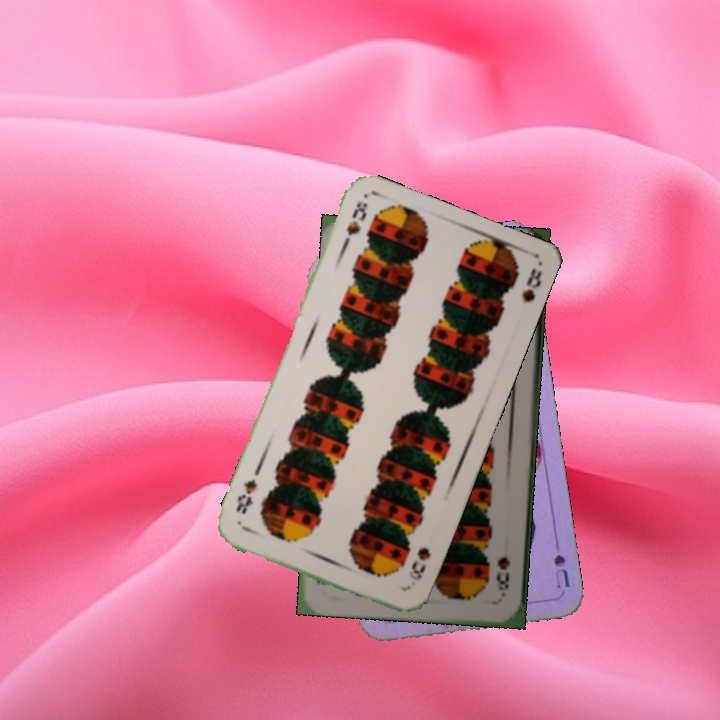S8: (337, 196, 371, 253), (407, 543, 434, 582), (492, 553, 512, 599)
SU: (549, 532, 572, 591)
